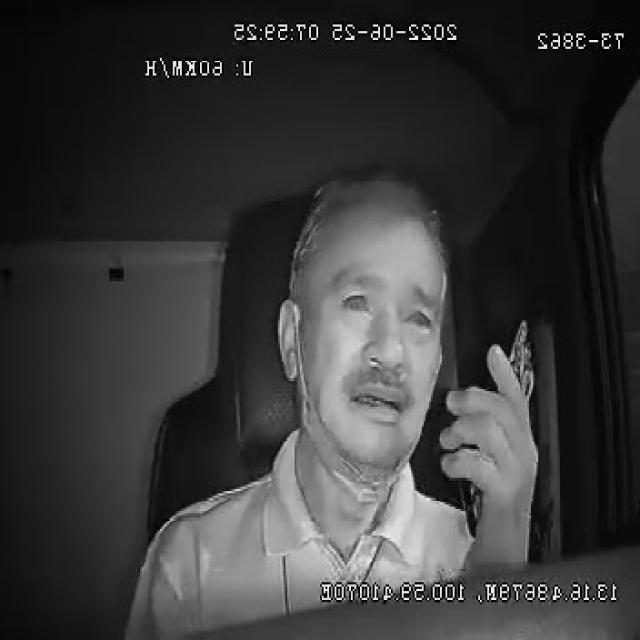phone: (457, 310, 537, 540)
